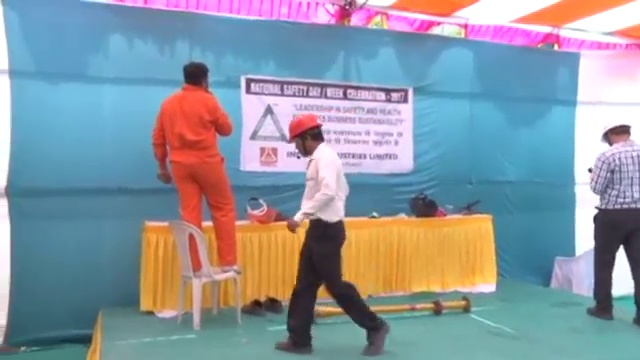helmet: (287, 112, 327, 142), (598, 112, 634, 144)
helmet_off: (180, 60, 211, 91)
helmet_on: (287, 111, 330, 161), (598, 112, 637, 150)
person: (278, 112, 390, 355), (152, 59, 244, 276), (588, 111, 640, 328)
